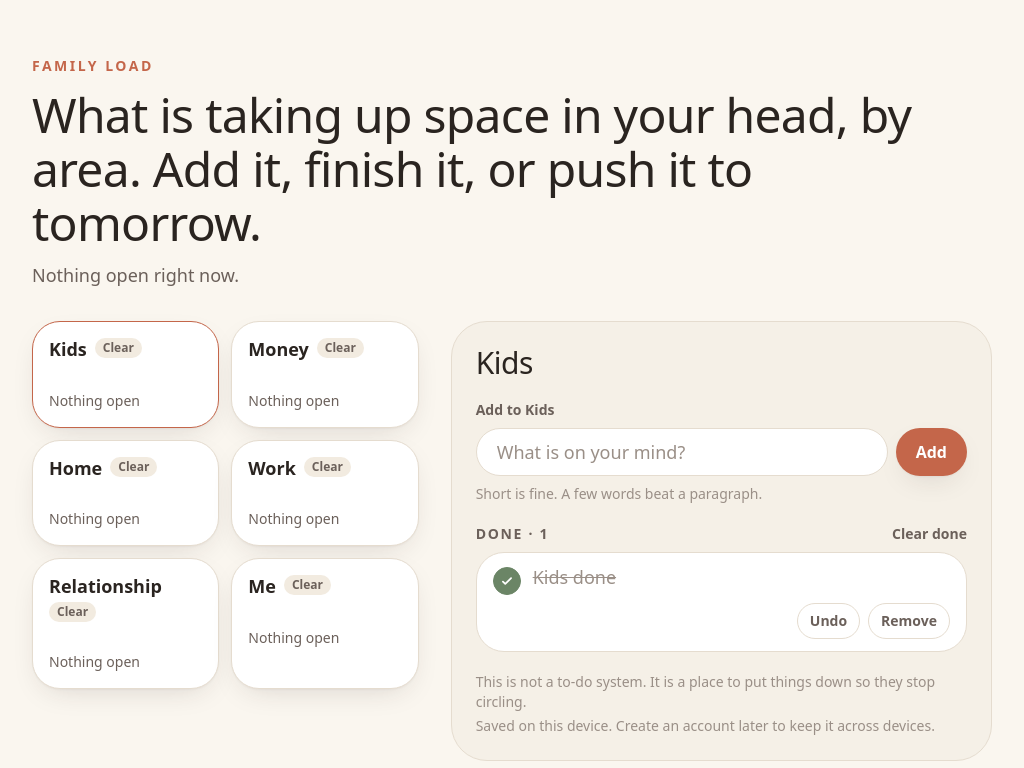
Test: Family Load › clears done items in the selected category only
The image size is (1024, 768).
Expected: the text "Kids done" is shown, [533,565,616,589]
What coordinates should you click on to do the following:
click the button "Clear done"
I would click on:
 (930, 534)
Its box is [892,524,967,544].
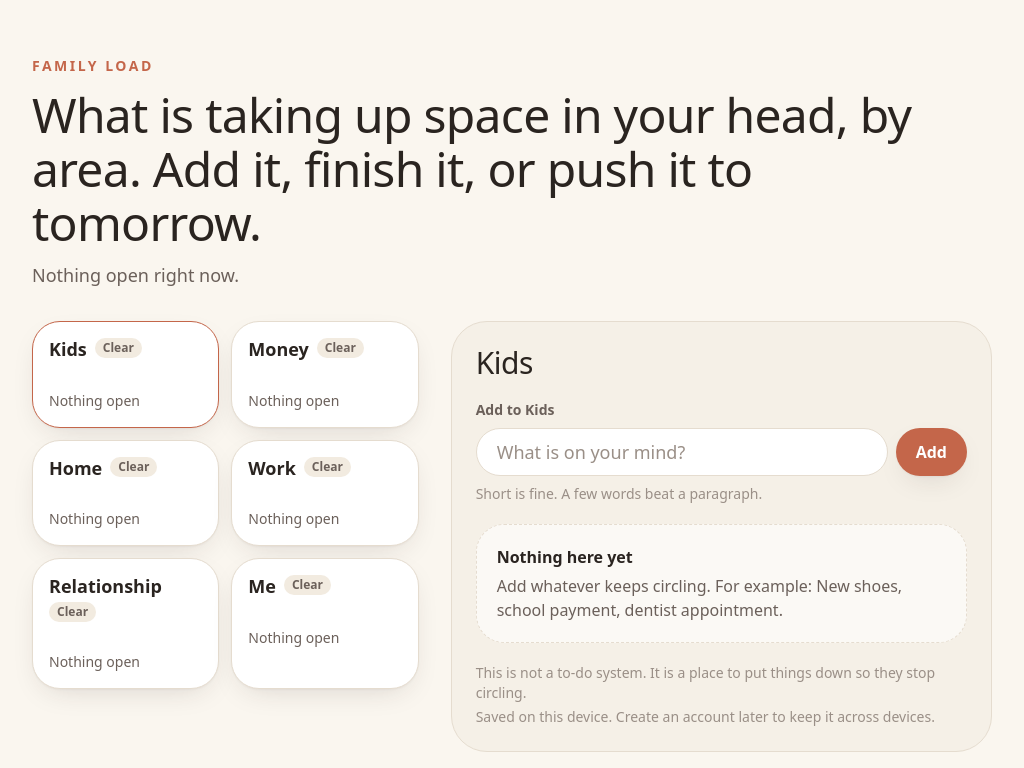
Now the text "Kids done" is gone
